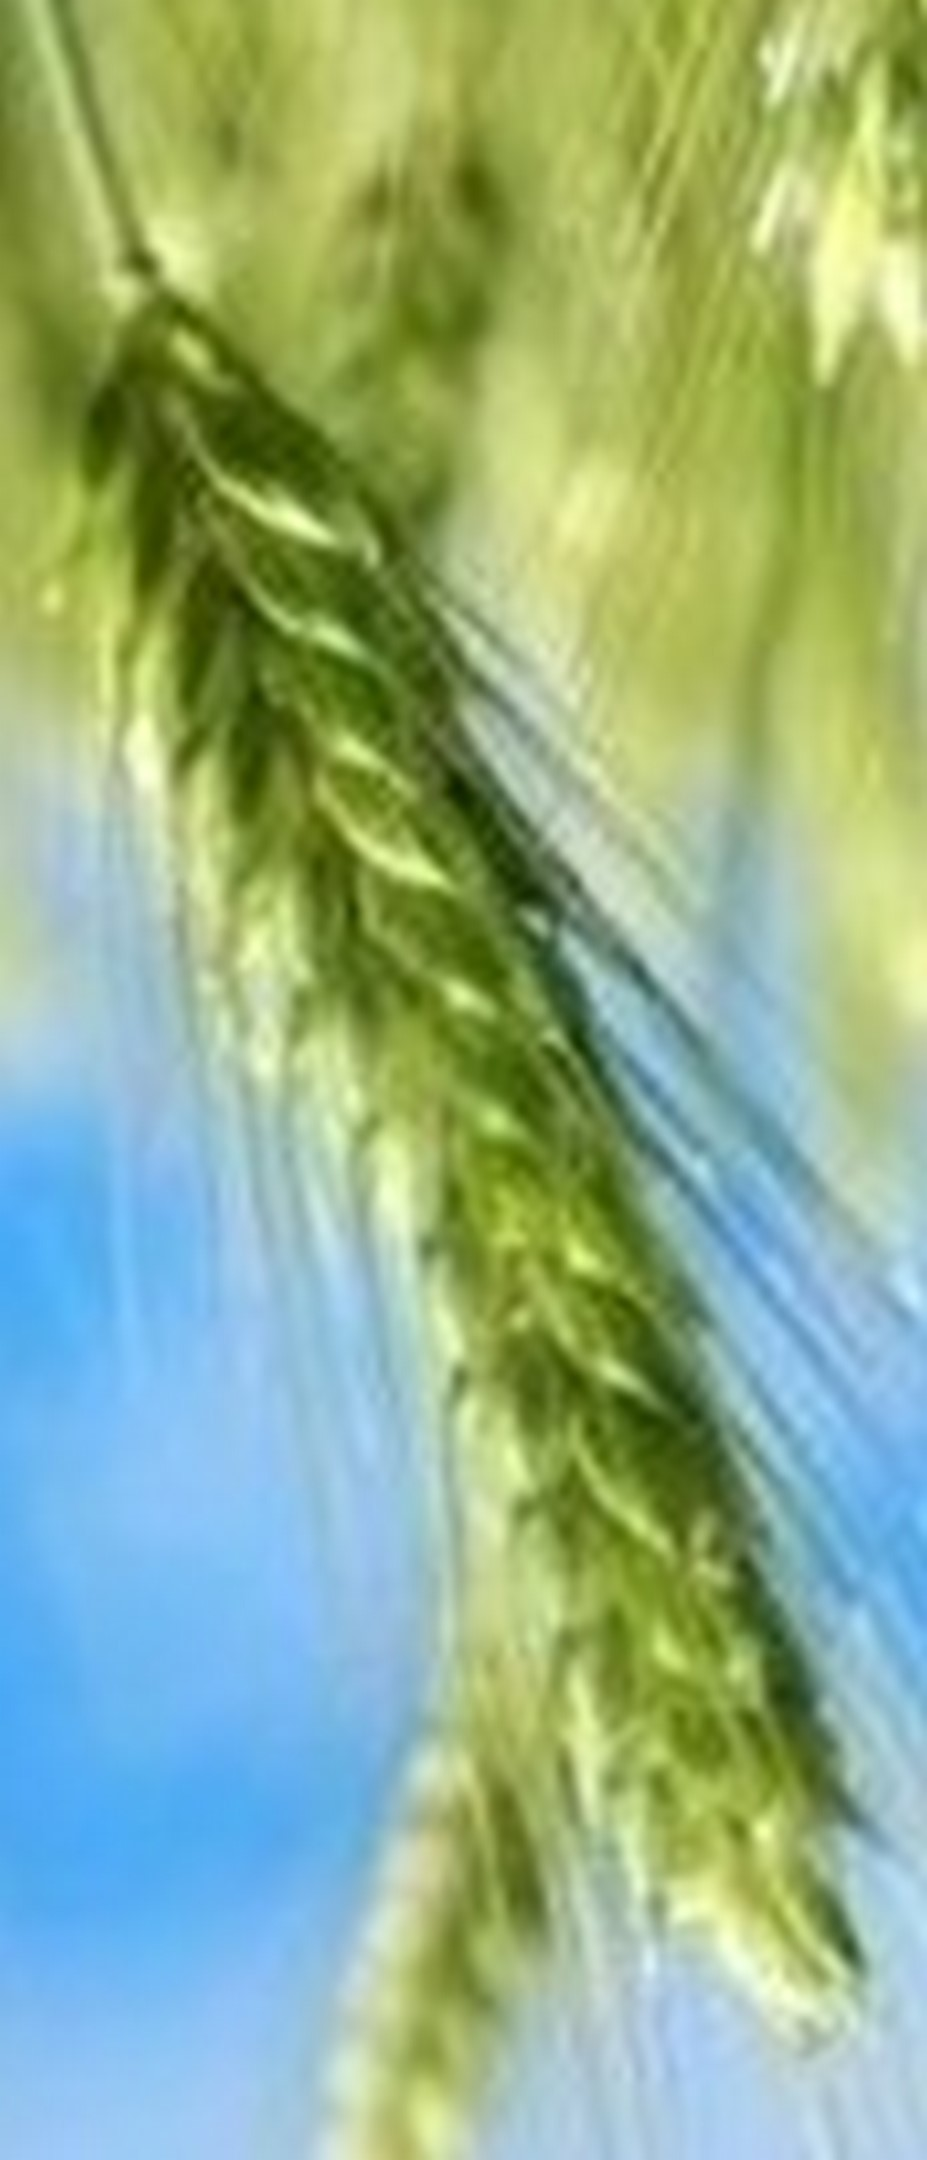Healthy Wheat: (83, 287, 927, 1986)
